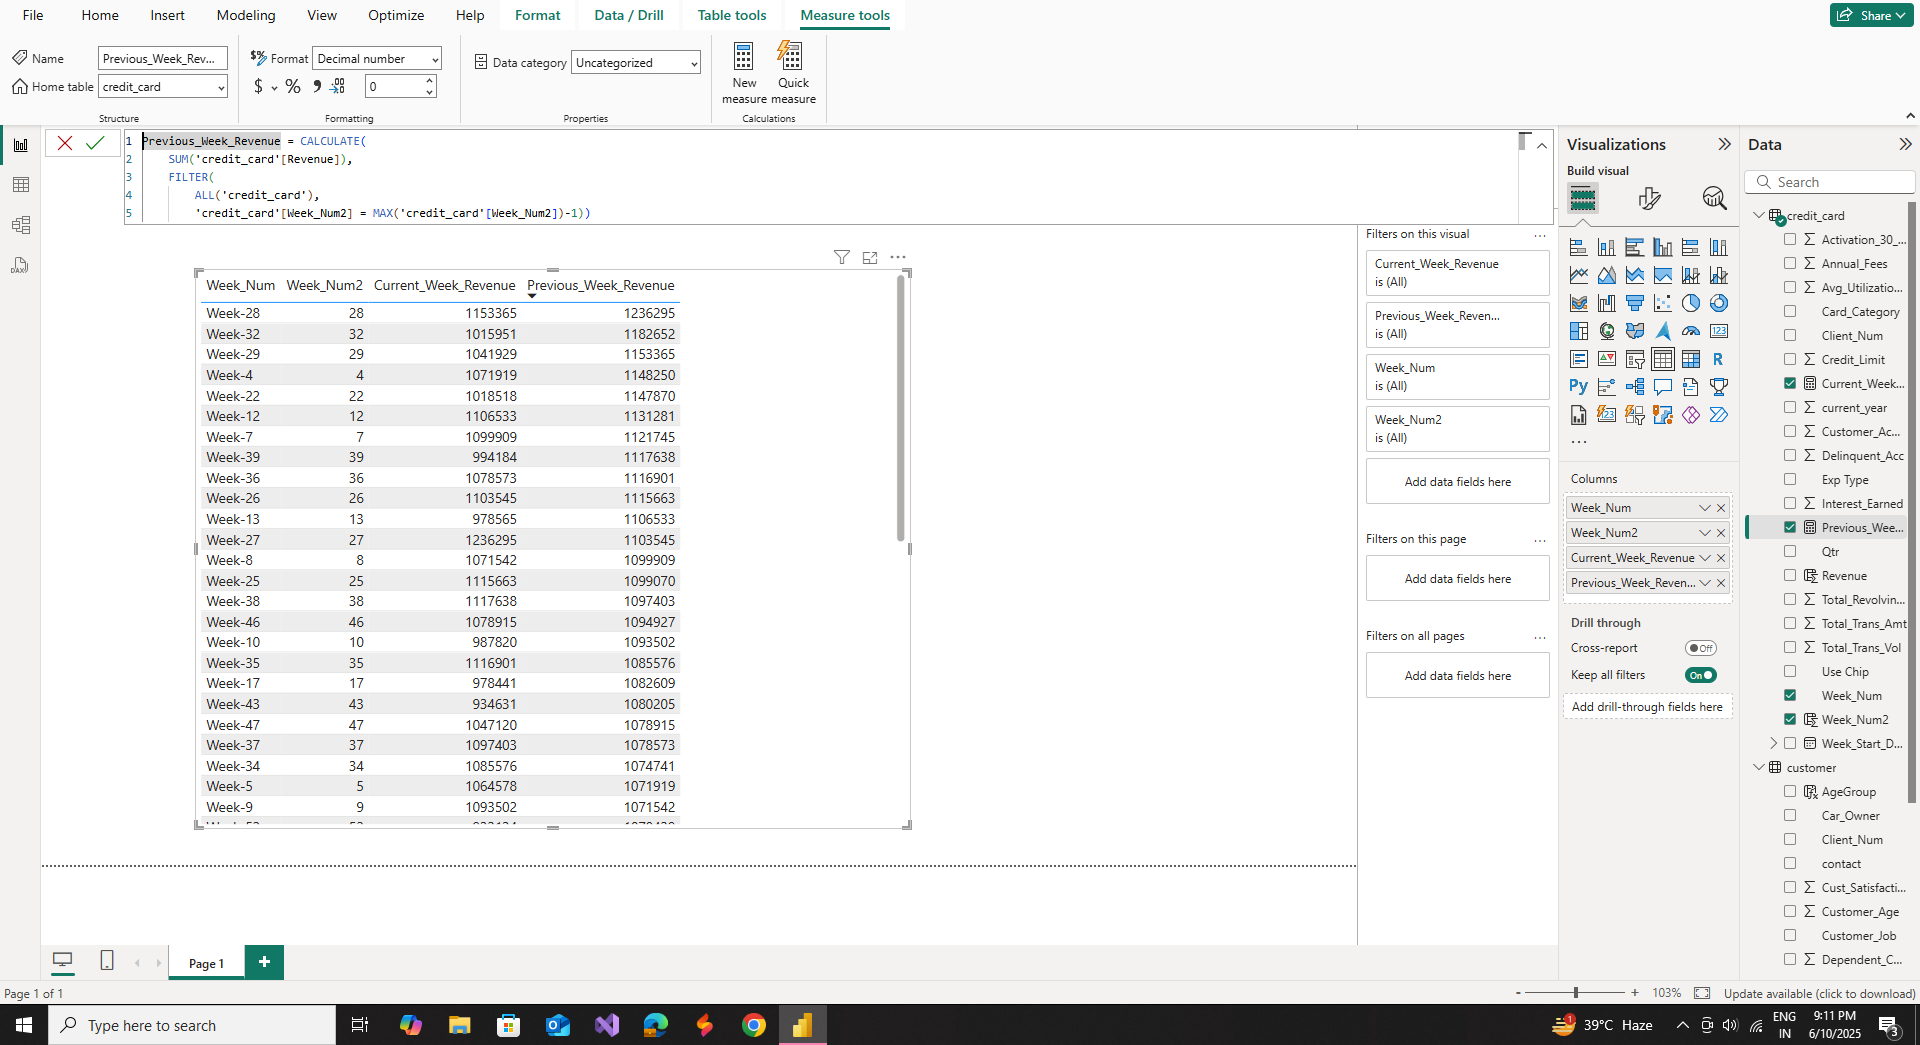

Layout of this report page (visuals, bound fields, positions):
{"tool":"powerbi","page":{"name":"Page 1","canvas":[1280,720],"ordinal":0},"visuals":[{"type":"tableEx","fields":{"Values":["credit_card.Week_Num2","credit_card.Previous_Week_Revenue","credit_card.Current_Week_Revenue","credit_card.WOW_Revenue"]},"box":[279.1,191.6,631.2,516.5],"z":1}]}

Visuals, with their boxes on the page's 1280x720 design canvas (x1, y1, x2, y2). These are canvas units, not pixel positions in the 1920x1045 screenshot, which may show the page scaled, cropped or inside an application window:
tableEx - credit_card.Week_Num2 x credit_card.Previous_Week_Revenue: locate(279, 192, 910, 708)
